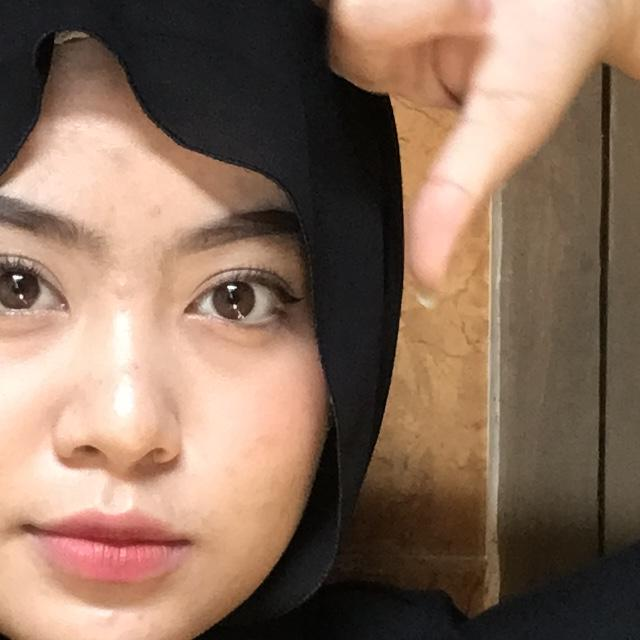sedih: (270, 0, 640, 386)
